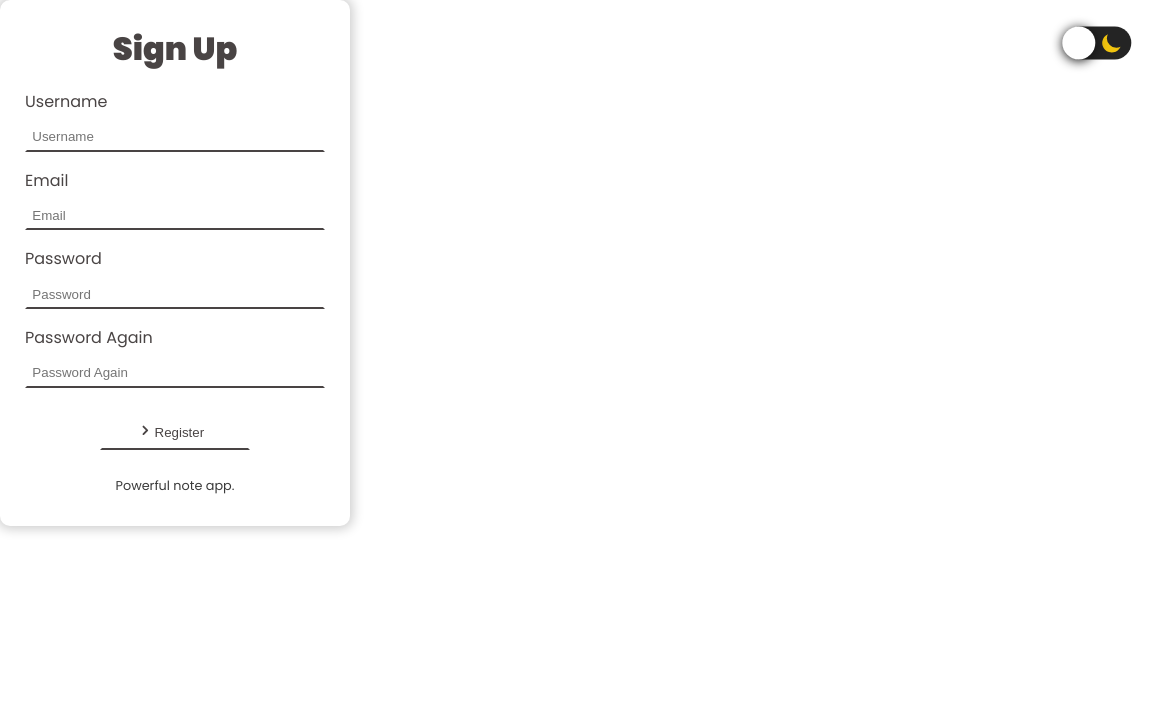
Test: SingUp Form › Username Valid Check › Validation Check for short username
Type "a" into the field labelled "Username" at (175, 137), box [25,122,325,152]
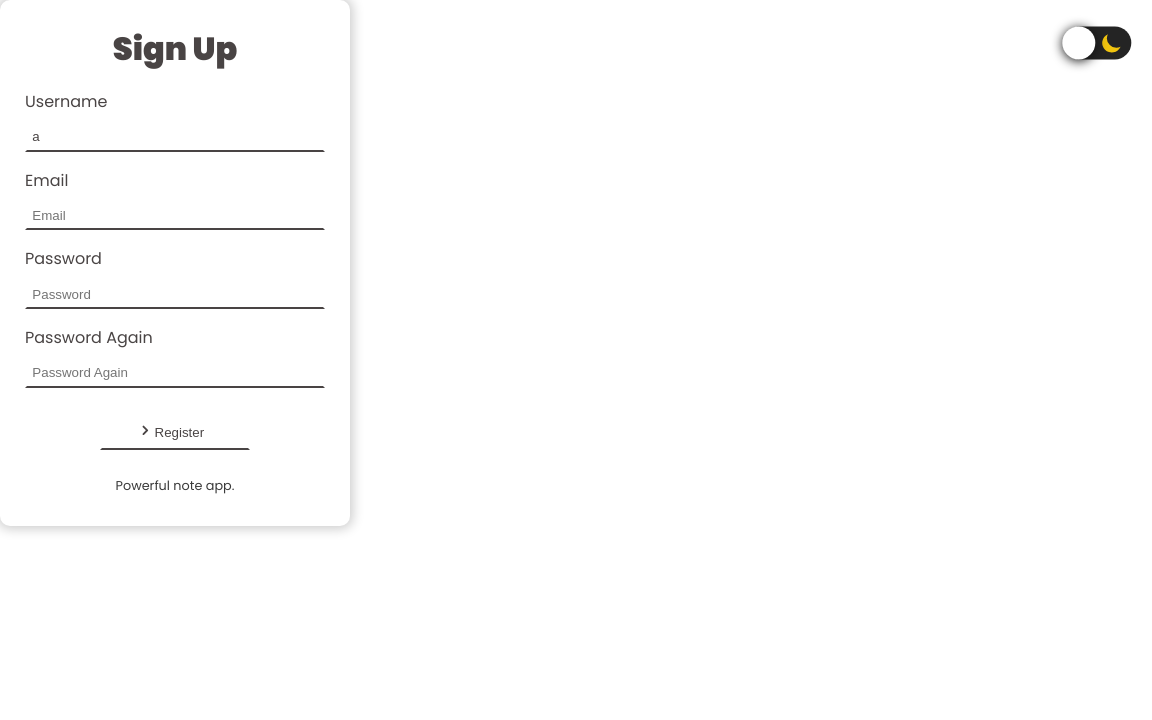
Submit the form from the button, box [100,414,250,450]
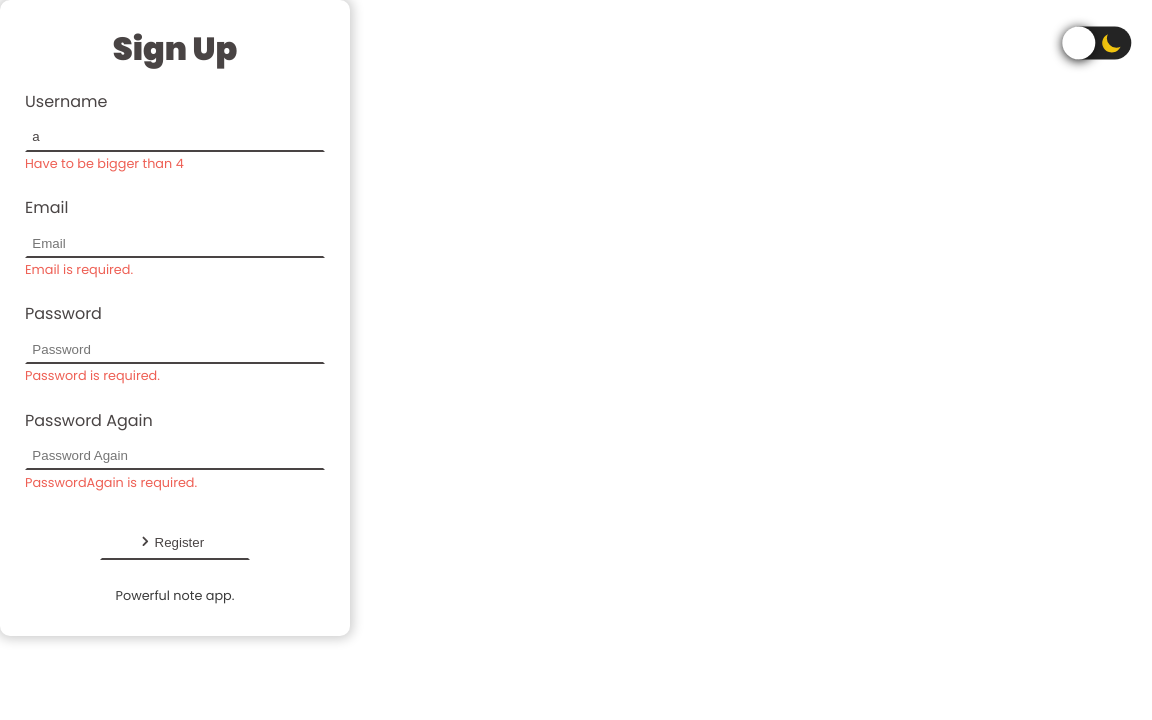
Expected: the text "Have to be bigger than 4" is shown, [25,155,184,172]
